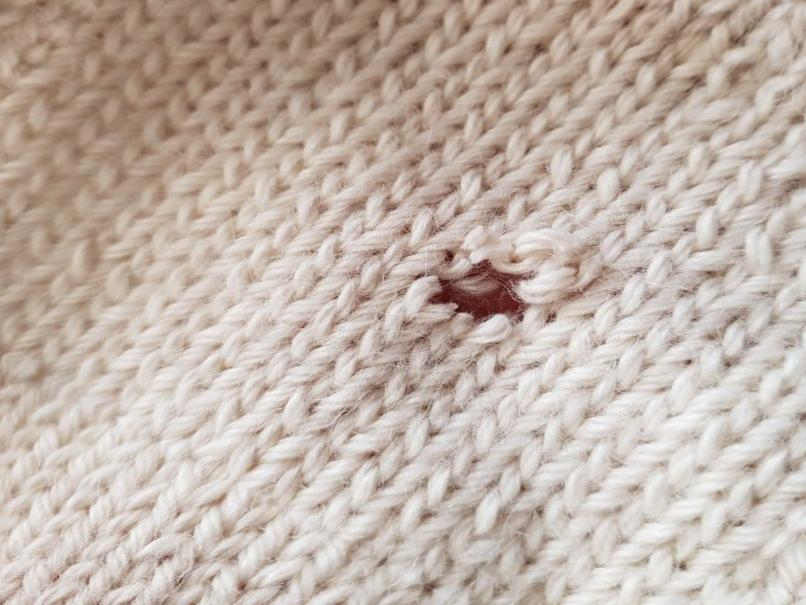hole: (420, 239, 542, 337)
